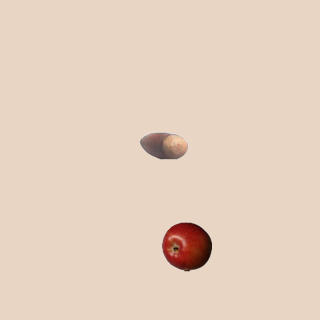Apple Braeburn: (161, 221, 211, 271)
Hazelnut: (138, 120, 188, 170)
